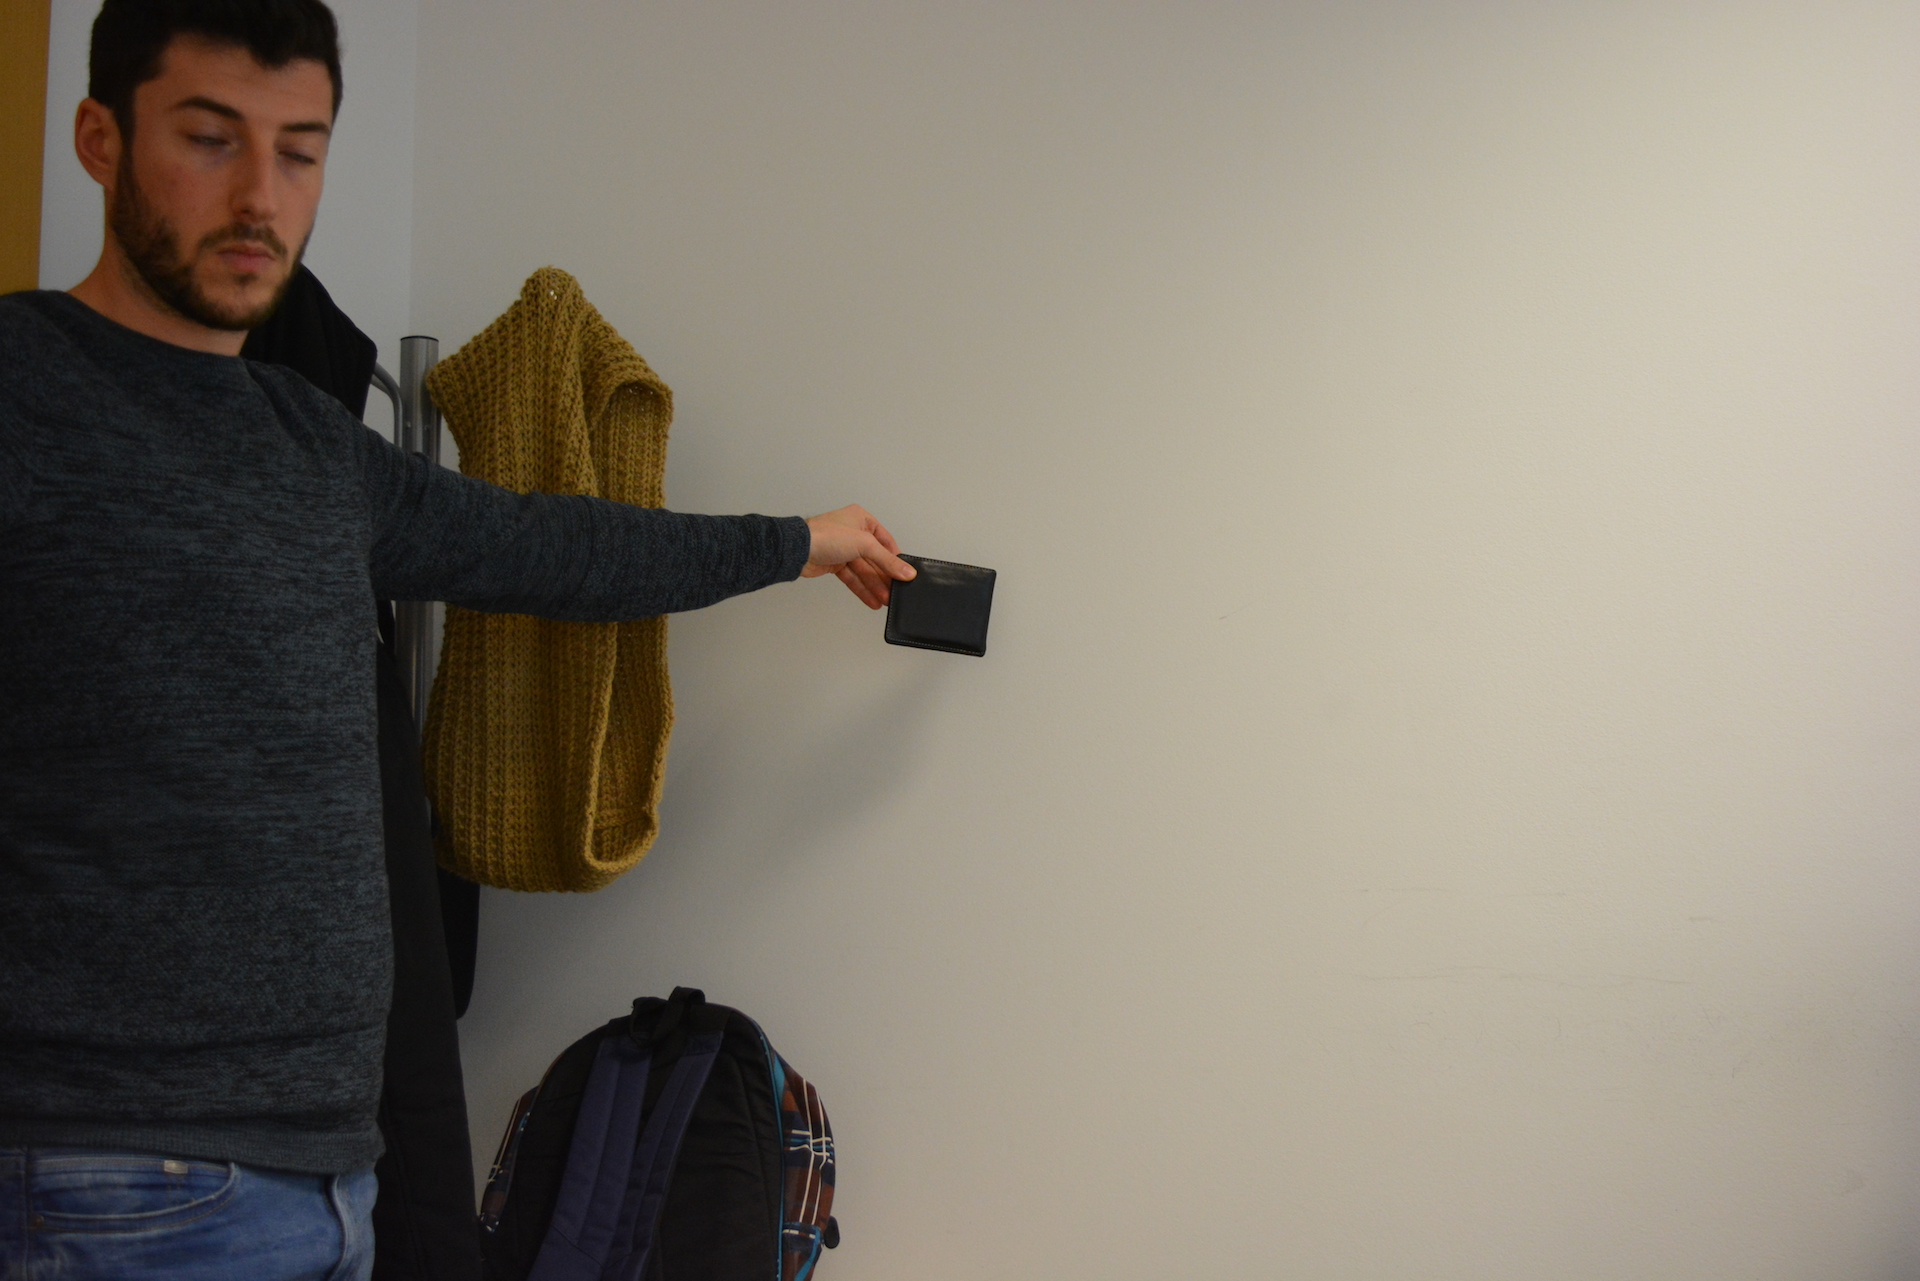monedero: (884, 552, 998, 659)
